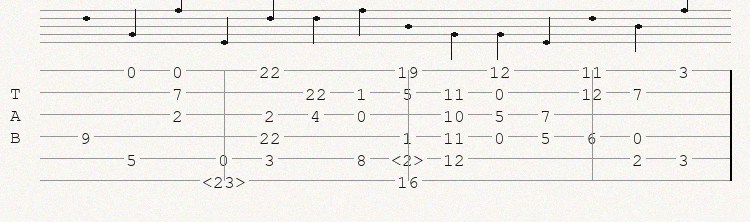0: (126, 63, 141, 78), (172, 63, 187, 78), (218, 151, 233, 166), (356, 107, 371, 122), (494, 129, 509, 144), (494, 85, 509, 100), (632, 129, 647, 144)
1: (356, 85, 371, 100), (402, 129, 417, 144)
10: (443, 107, 469, 122)
11: (443, 129, 469, 144), (443, 85, 469, 100), (581, 63, 607, 78)
12: (443, 151, 469, 166), (489, 63, 515, 78), (581, 85, 607, 100)
16: (397, 173, 423, 188)
19: (397, 63, 423, 78)
2: (172, 107, 187, 122), (264, 107, 279, 122), (632, 151, 647, 166)
22: (259, 129, 285, 144), (259, 63, 285, 78), (305, 85, 331, 100)
3: (264, 151, 279, 166), (678, 63, 693, 78), (678, 151, 693, 166)
4: (310, 107, 325, 122)
5: (126, 151, 141, 166), (402, 85, 417, 100), (494, 107, 509, 122), (540, 129, 555, 144)
6: (586, 129, 601, 144)
7: (172, 85, 187, 100), (540, 107, 555, 122), (632, 85, 647, 100)
8: (356, 151, 371, 166)
9: (80, 129, 95, 144)
harmonic: (202, 173, 250, 188), (391, 151, 428, 166)
